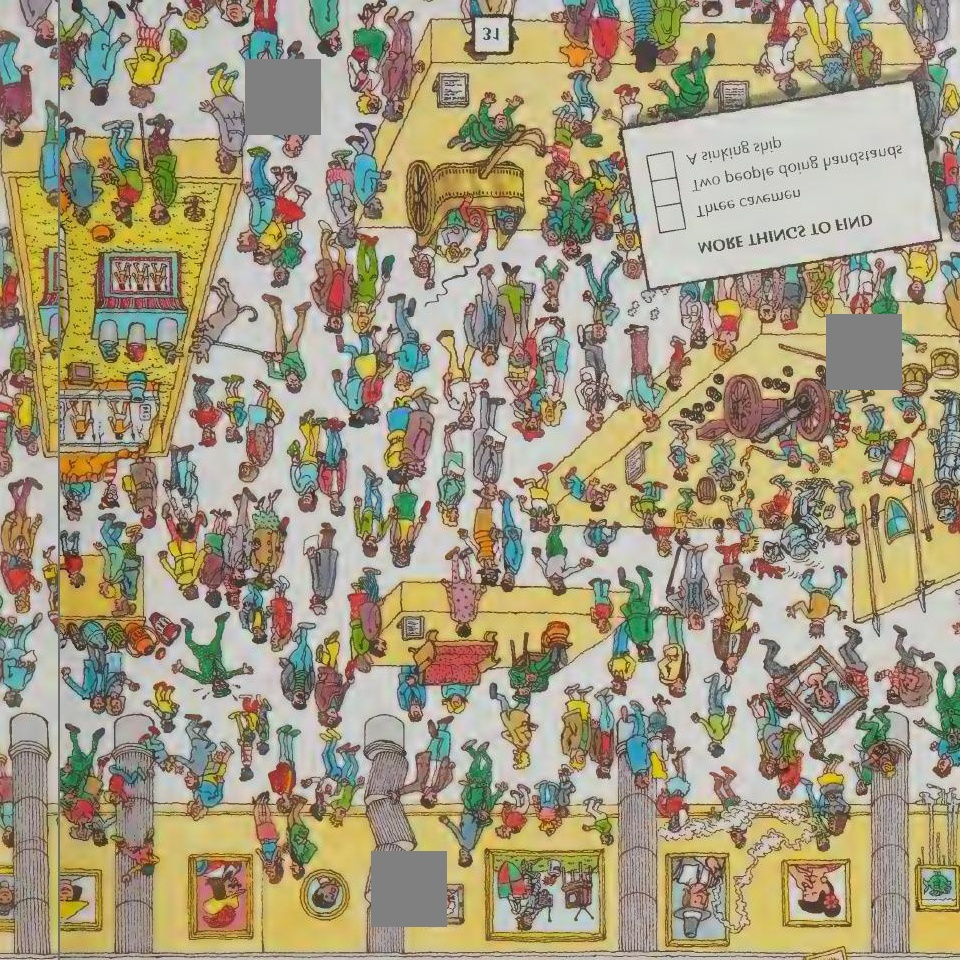waldo: (99, 467, 121, 509)
